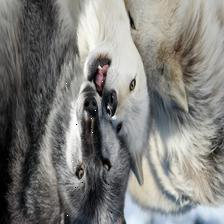WOLF: (58, 81, 126, 224)
